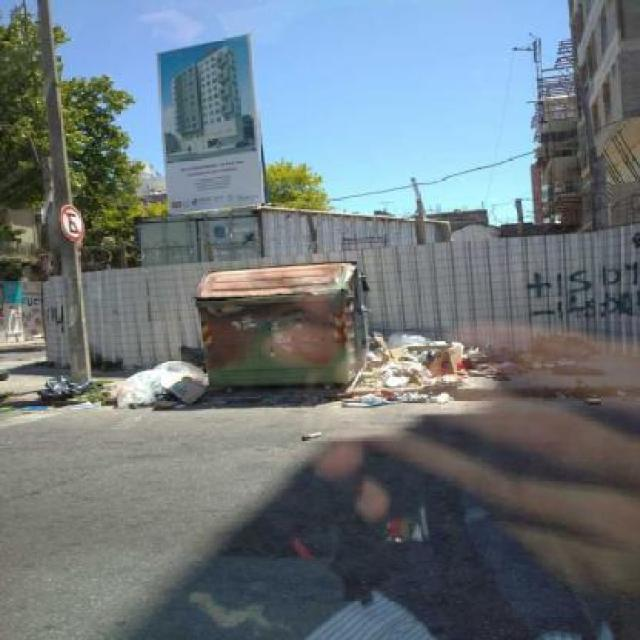garbage: (356, 331, 619, 414), (11, 353, 207, 412)
